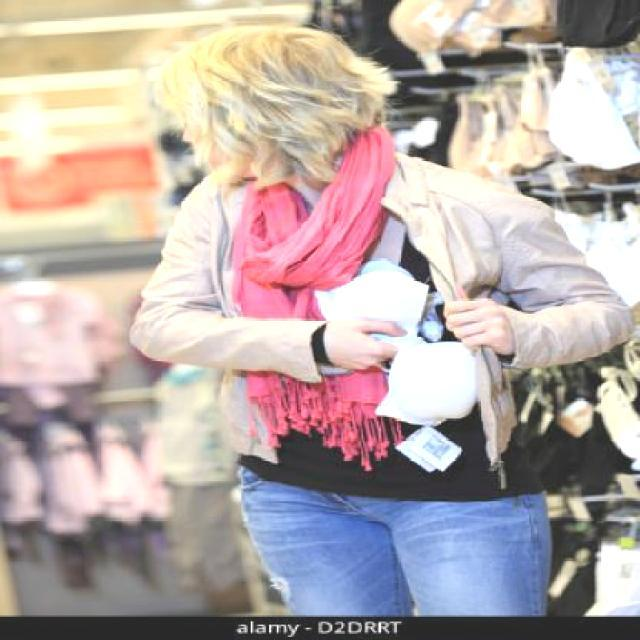shoplifting: (223, 150, 592, 522)
